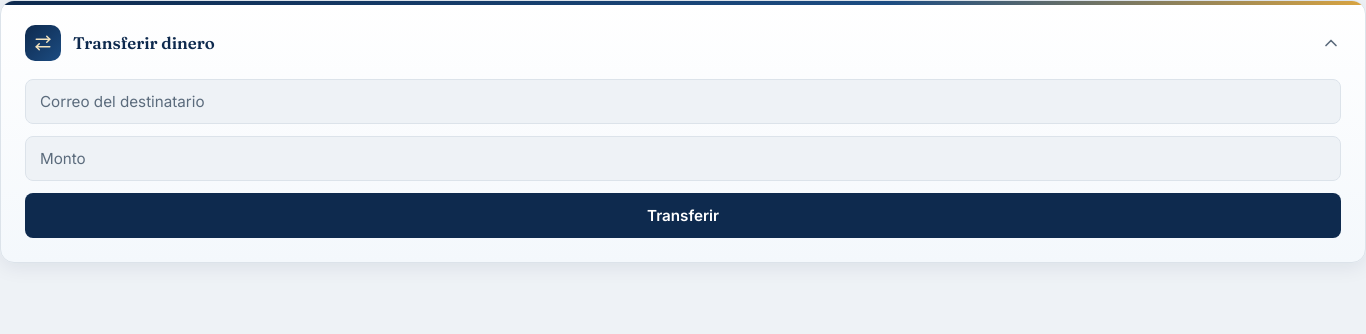
FormularioTransferencia › muestra el mensaje de exito y limpia el formulario tras una transferencia exitosa
The image size is (1366, 334).
Type "felipe@cbank.cl" into the field with placeholder "Correo del destinatario".
click(683, 102); type("felipe@cbank.cl")  # box [25,79,1341,124]
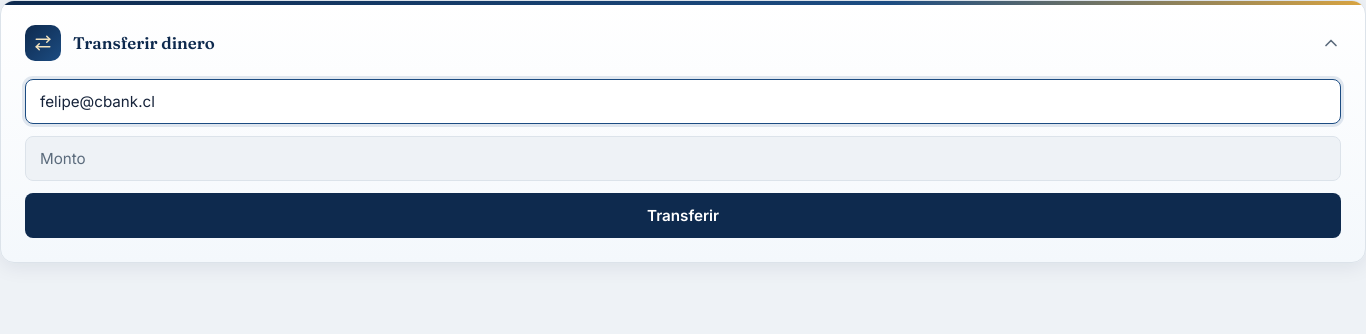
Type "10000" into the number field with placeholder "Monto".
click(683, 158); type("10000")  # box [25,136,1341,181]
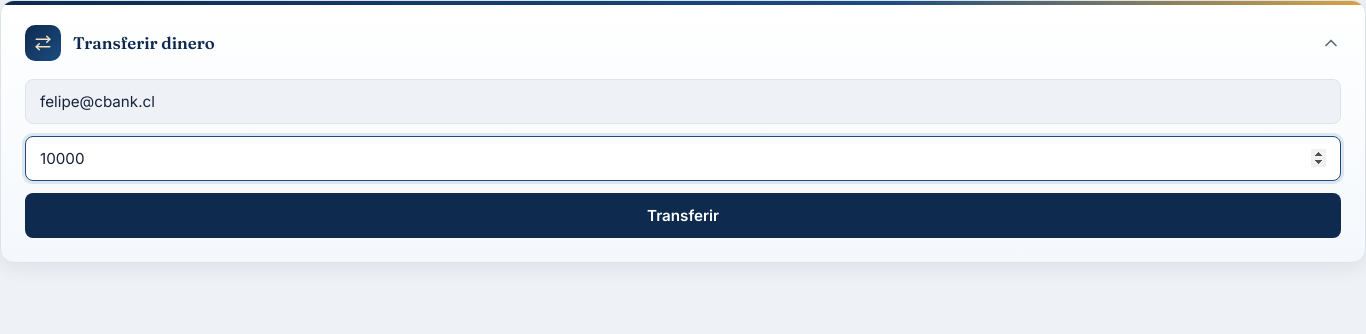
Click the button "Transferir".
click(683, 216)  # box [25,193,1341,238]
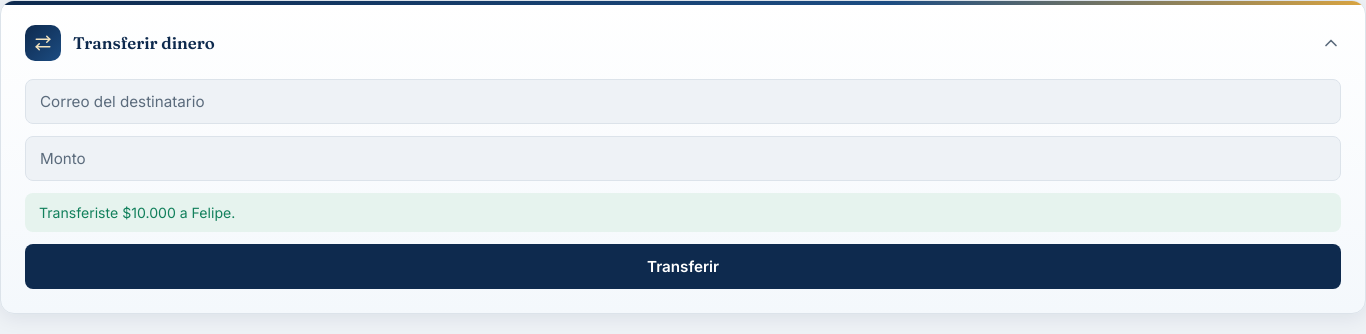
Check: the text "Transferiste $10.000 a Felipe." is shown, box [25,193,1341,232]
Check: the field with placeholder "Correo del destinatario" is empty, box [25,79,1341,124]
Check: the number field with placeholder "Monto" is not empty, box [25,136,1341,181]
